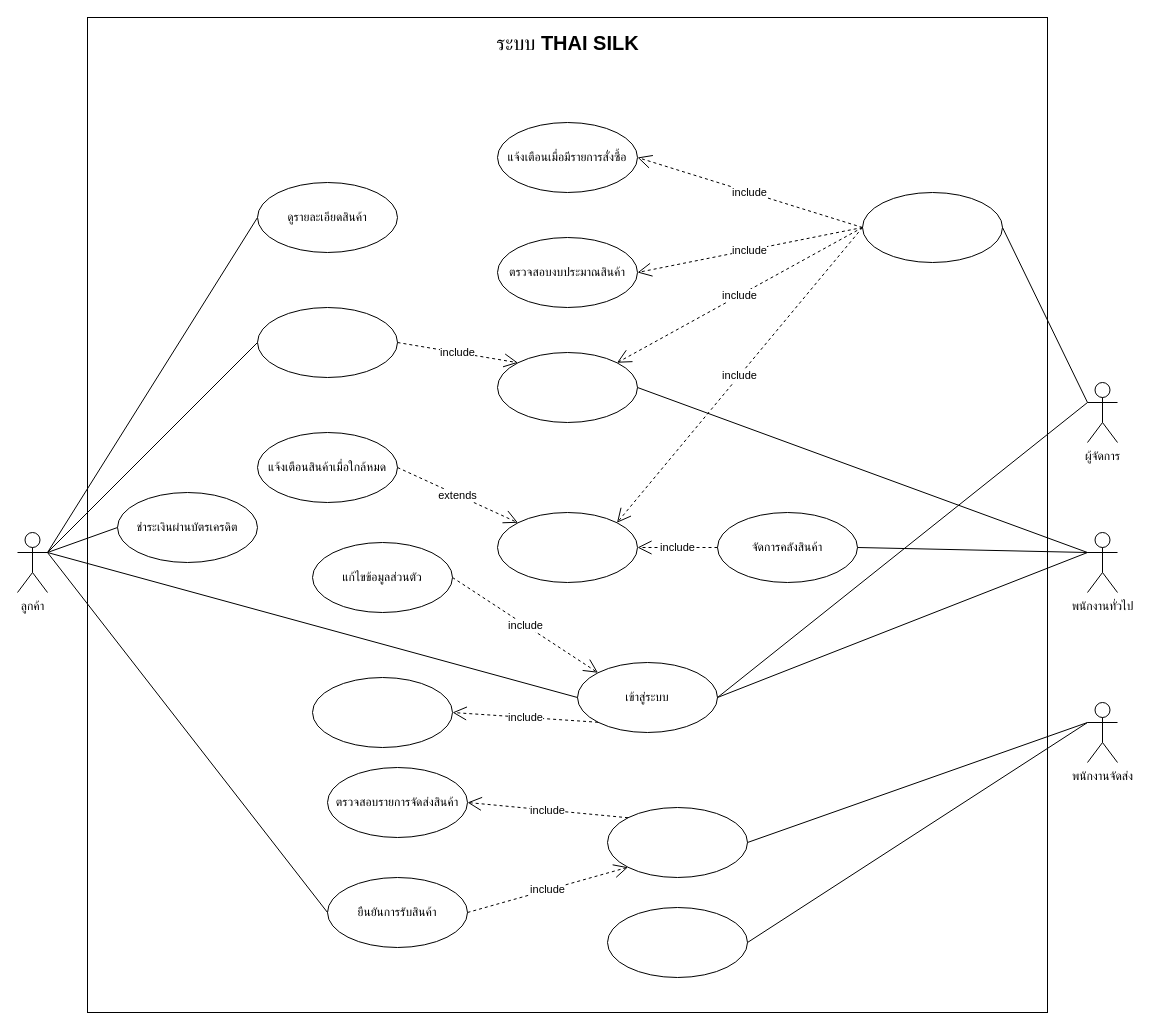
The diagram is 1151 pixels wide and 1030 high, and some of its shapes have lost their labels. The shapes that lost their labels are listed below. From the top down, each one's box as (x1, y1, x2, y2) in pixels, then its label:
(862, 192, 1002, 262): จัดการกับสินค้า
(256, 306, 398, 378): การสั่งซื้อ
(496, 352, 638, 422): ตรวจสอบการสั่งซื้อ
(496, 512, 638, 582): ตรวจสอบสถานะสินค้า
(312, 676, 452, 748): สมัครสมาชิก
(606, 806, 748, 878): จัดส่งสินค้า
(606, 906, 748, 978): ยืนยันการจัดส่ง
